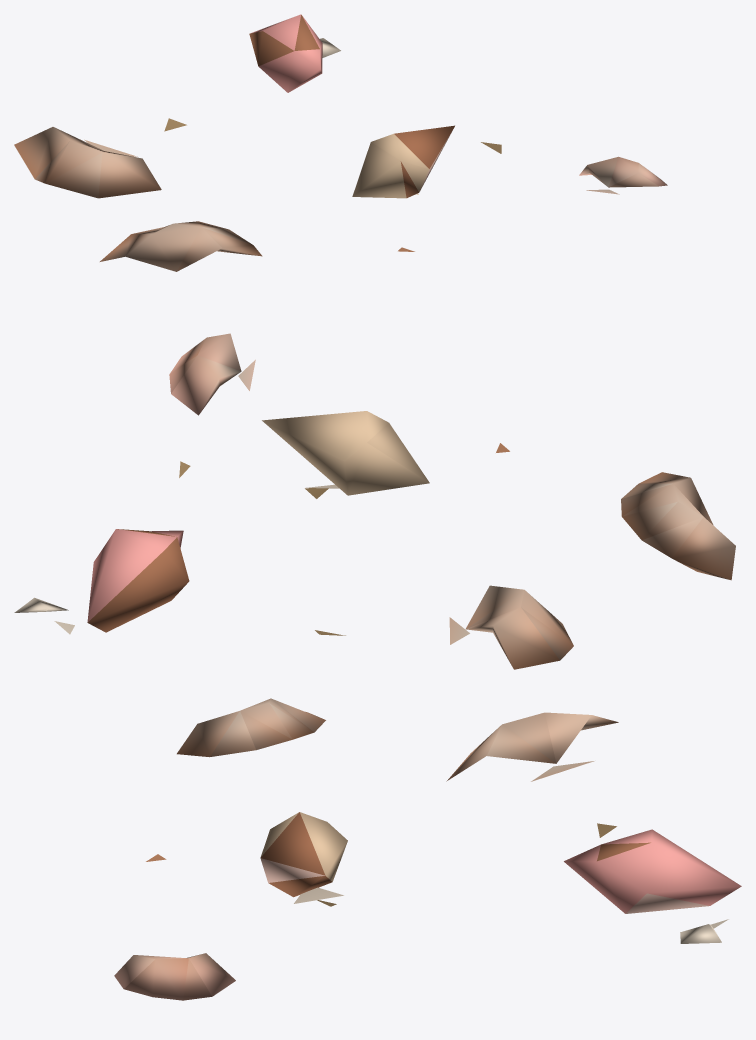
File: shore_gc_shells_b_lod2.glb
3 renders of one model, top to bottom at view 1: azimuth 30°, elevation 25°; view 2: azimuth 150°, elevation 25°; view 3: azimuth 270°, elevation 25°, orthographic. The views are drawn at different scales.
Parts seen in each view (by area): view 1: shore_gc_shells_b.001; view 2: shore_gc_shells_b.001; view 3: shore_gc_shells_b.001.
Part boxes in pixels (bbox=[...]): shore_gc_shells_b.001: bbox=[14, 14, 667, 271]; shore_gc_shells_b.001: bbox=[14, 333, 735, 669]; shore_gc_shells_b.001: bbox=[114, 698, 741, 1000].
Bounding box in the file's own units: 3.73 × 0.4494 × 3.72.
